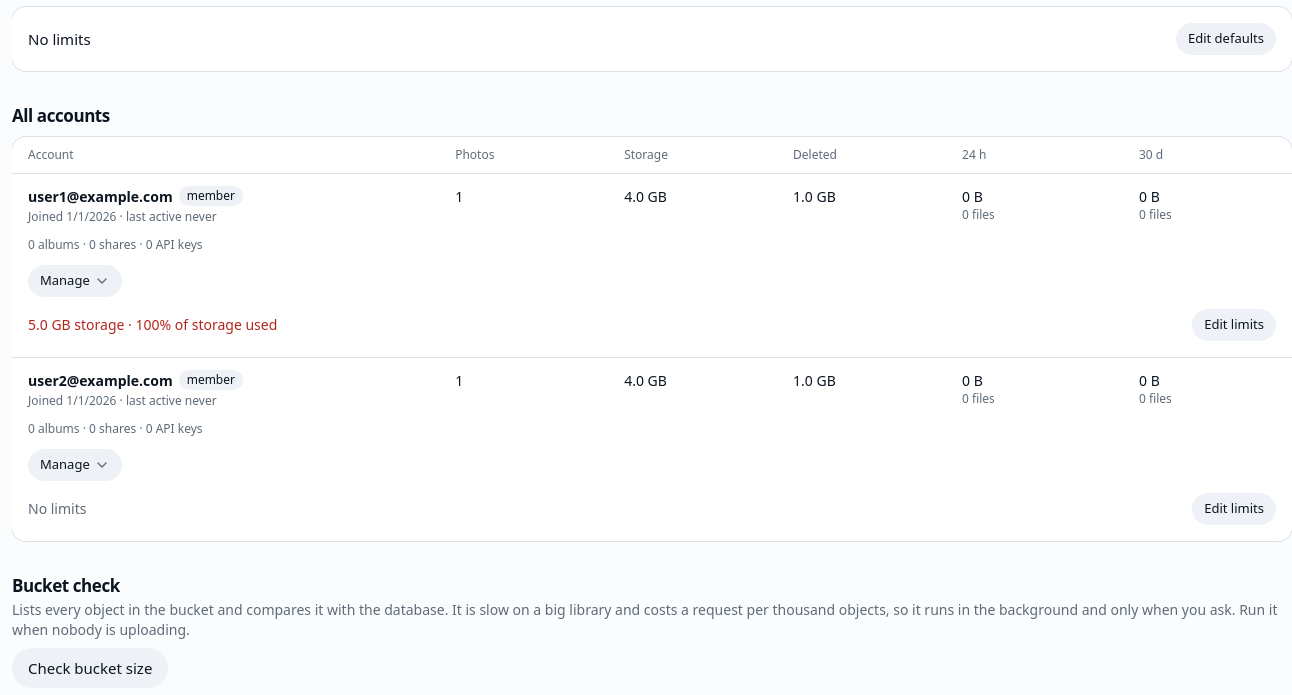
Accounts page limit editing › shows a server refusal in the form
This screenshot has width=1292, height=695.
(page scrolled)
Click the button with aria-label "Edit limits of user2@example.com": (1234, 508) [1192,492,1276,524]
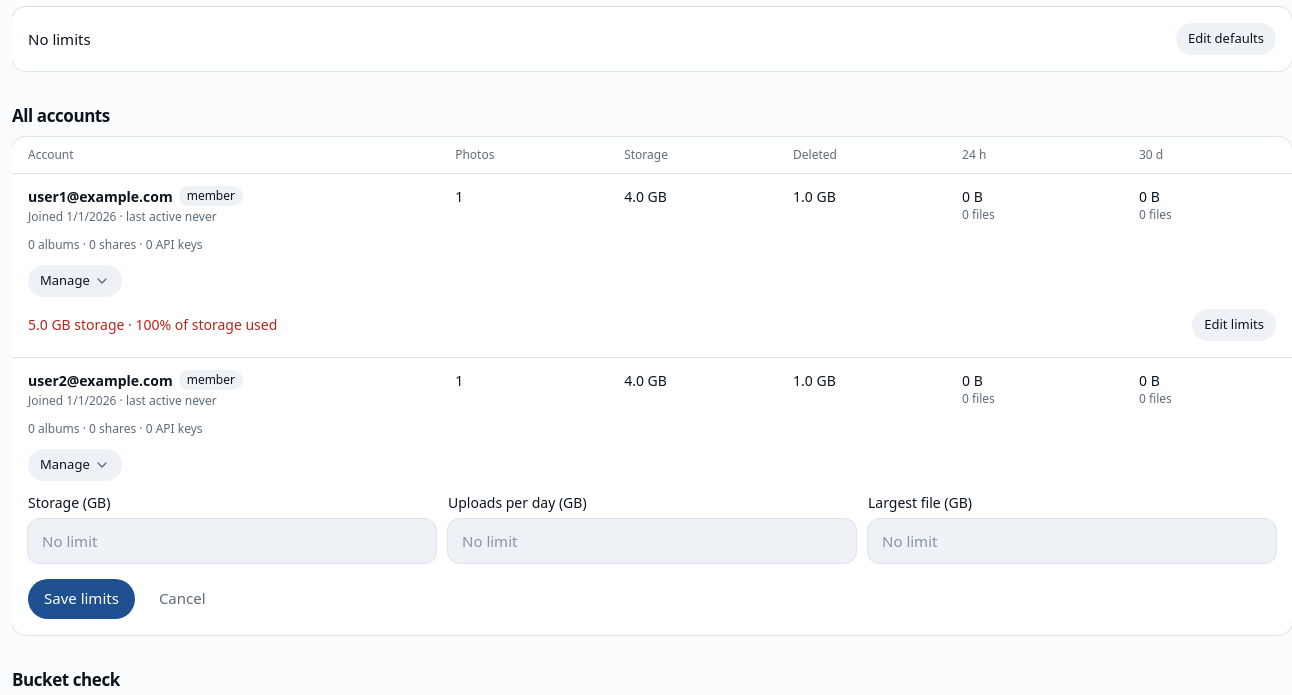
In the field labelled "Storage (GB)": (232, 540) [28,518,436,562], type "1"
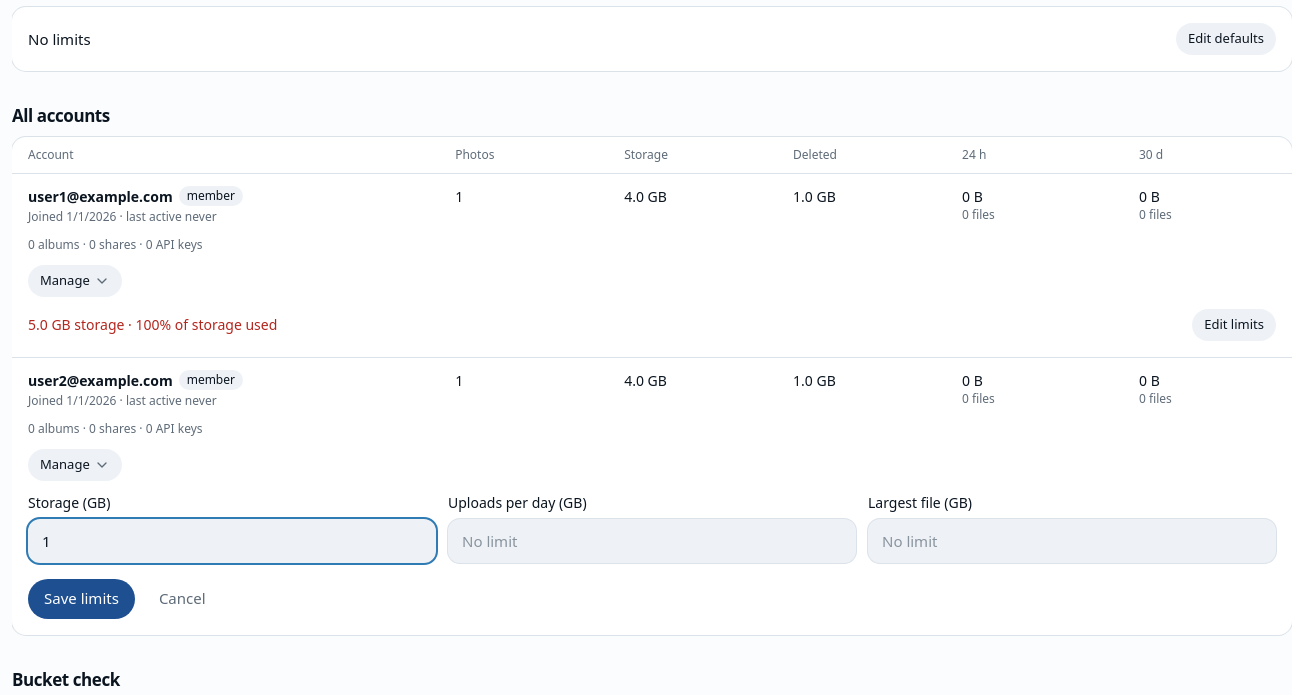
Click the button "Save limits": (81, 598) [28,578,135,618]
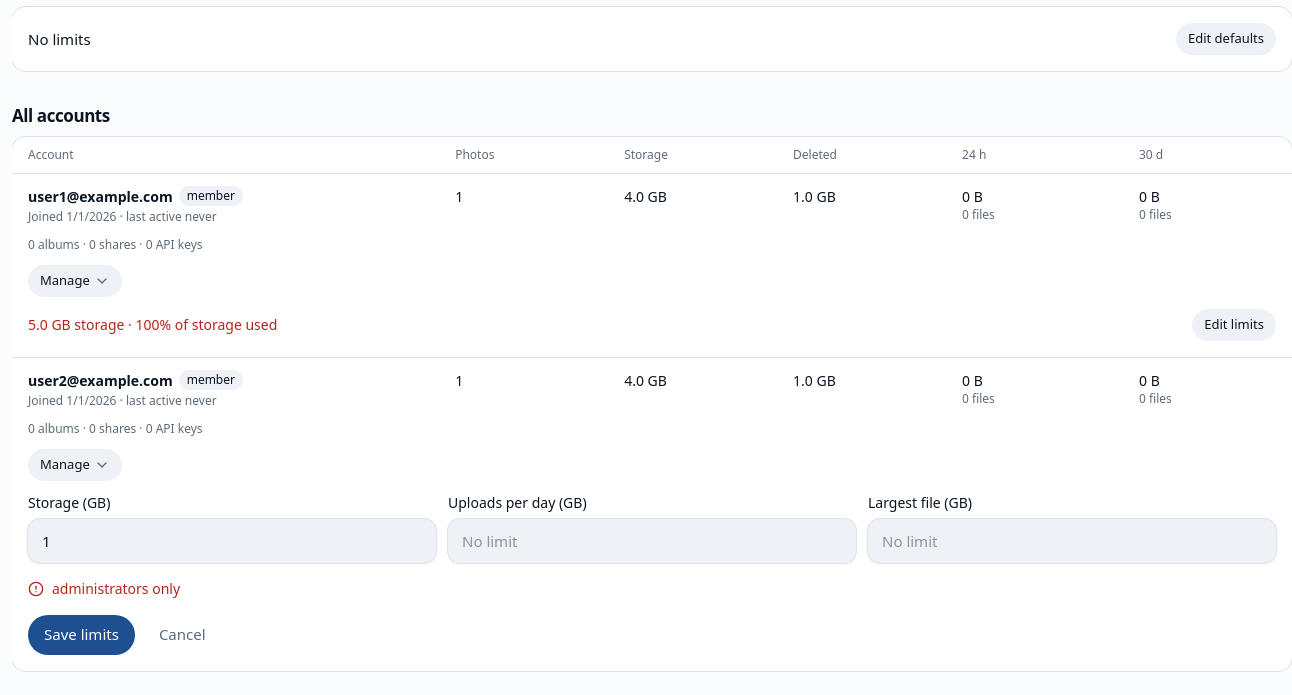
Now the text "administrators only" is shown, box [52,578,180,598]
